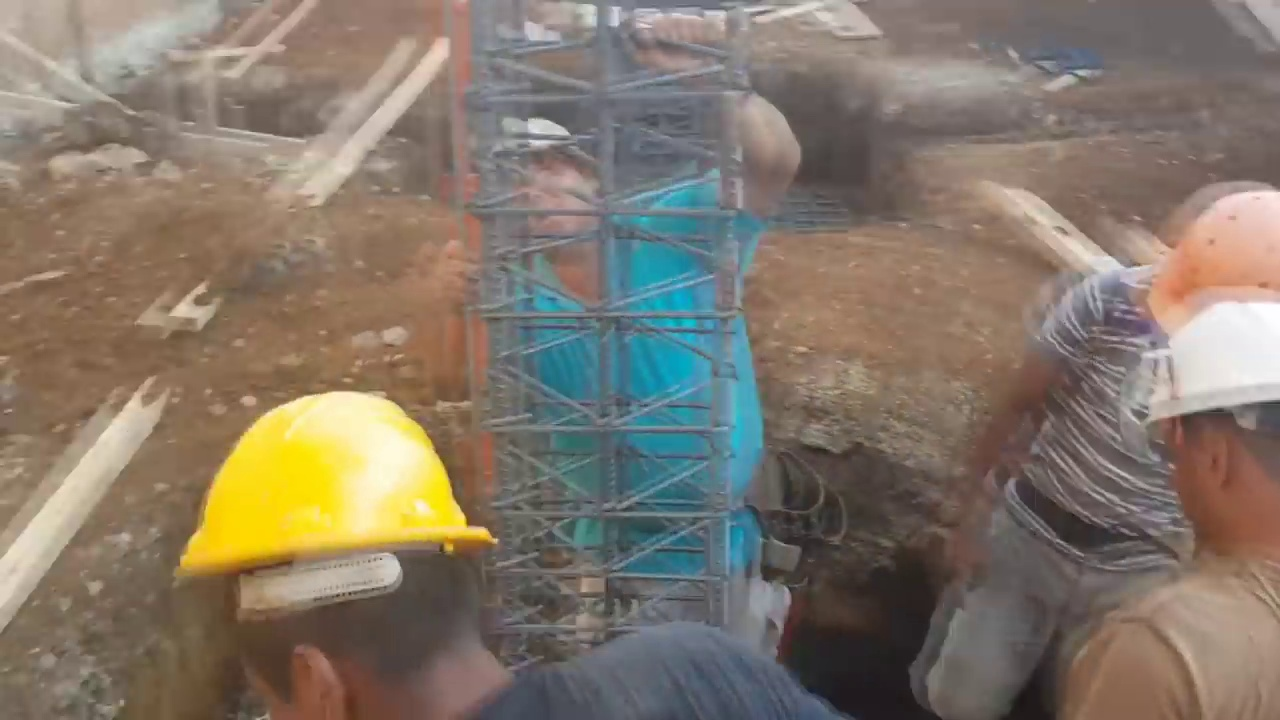helmet: (177, 394, 495, 622), (1148, 189, 1276, 344), (1132, 306, 1280, 430)
helmet-off: (477, 116, 616, 262)
helmet-on: (173, 397, 540, 718), (1137, 304, 1280, 574), (1120, 189, 1278, 353)
person: (420, 11, 805, 654), (171, 378, 847, 714), (931, 185, 1276, 720), (1063, 310, 1280, 647)
